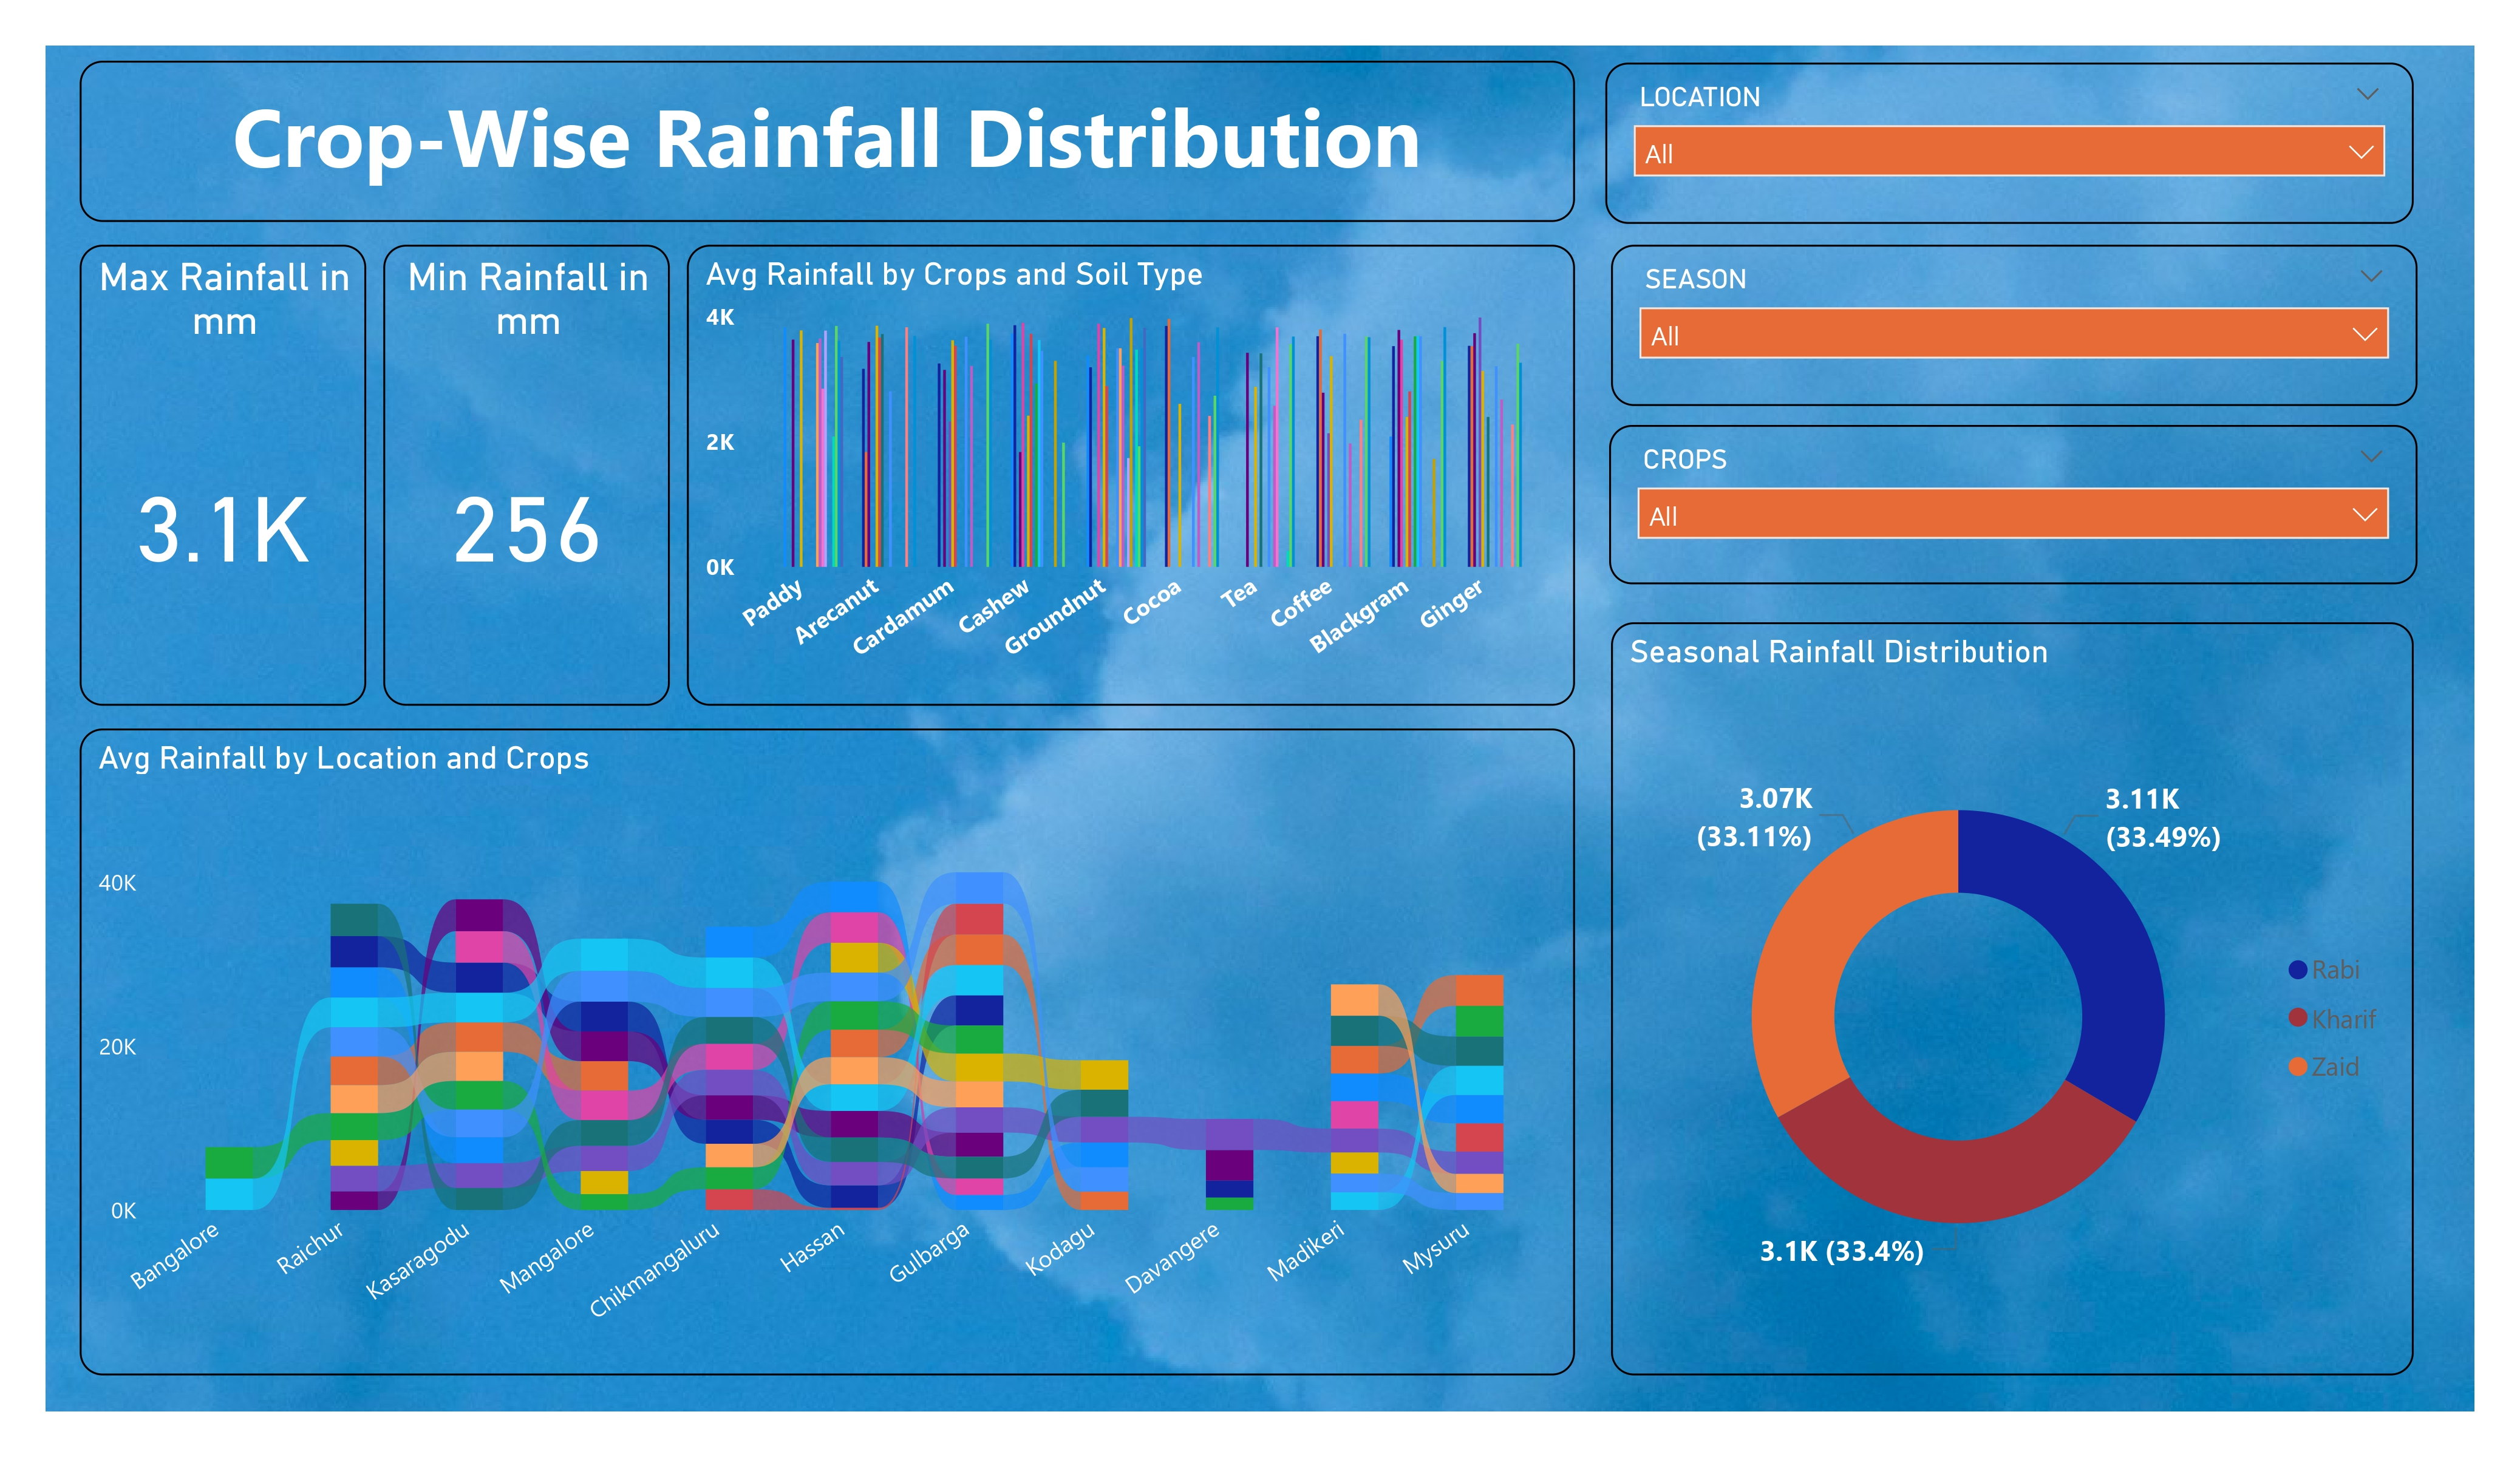

This screenshot's page, from the dashboard's own definition file:
{"tool":"powerbi","page":{"name":"Crop-Wise Rainfall Distribution","canvas":[1280,720],"ordinal":1},"visuals":[{"type":"card","title":"Max Rainfall in mm","fields":{"Values":["AGRICULTURE.Avg Rainfall"]},"box":[18.2,105.2,150.6,242.9],"z":0},{"type":"card","title":"Min Rainfall in mm","fields":{"Values":["AGRICULTURE.Min Rainfall"]},"box":[177.9,105.2,150.6,242.9],"z":1000},{"type":"textbox","box":[18,8,788,85],"z":2000},{"type":"ribbonChart","title":"Avg Rainfall by Location and Crops","fields":{"Category":["AGRICULTURE.LOCATION"],"Y":["AGRICULTURE.Avg Rainfall"],"Series":["AGRICULTURE.CROPS"]},"box":[18.2,359.7,788.3,341.6],"z":3000},{"type":"clusteredColumnChart","title":"Avg Rainfall by Crops and Soil Type","fields":{"Category":["AGRICULTURE.CROPS"],"Y":["AGRICULTURE.Avg Rainfall"],"Series":["AGRICULTURE.SOIL_TYPE"]},"box":[337.7,105.2,468.8,242.9],"z":4000},{"type":"donutChart","title":"Seasonal Rainfall Distribution","fields":{"Category":["AGRICULTURE.SEASON"],"Y":["AGRICULTURE.Avg Rainfall"]},"box":[824.7,303.9,423.4,397.4],"z":5000},{"type":"slicer","fields":{"Values":["AGRICULTURE.LOCATION"]},"box":[822,8.5,425.6,85.4],"z":6000},{"type":"slicer","fields":{"Values":["AGRICULTURE.CROPS"]},"box":[824.4,200,425.6,84.1],"z":7000},{"type":"slicer","fields":{"Values":["AGRICULTURE.SEASON"]},"box":[824.7,105.2,425,85],"z":8000}]}

Visuals, with their boxes on the page's 1280x720 design canvas (x1, y1, x2, y2). These are canvas units, not pixel positions in the 2520x1457 screenshot, which may show the page scaled, cropped or inside an application window:
"Max Rainfall in mm" card: [18, 105, 169, 348]
"Min Rainfall in mm" card: [178, 105, 328, 348]
textbox: [18, 8, 806, 93]
"Avg Rainfall by Location and Crops" ribbonChart: [18, 360, 806, 701]
"Avg Rainfall by Crops and Soil Type" clusteredColumnChart: [338, 105, 806, 348]
"Seasonal Rainfall Distribution" donutChart: [825, 304, 1248, 701]
slicer - AGRICULTURE.LOCATION: [822, 8, 1248, 94]
slicer - AGRICULTURE.CROPS: [824, 200, 1250, 284]
slicer - AGRICULTURE.SEASON: [825, 105, 1250, 190]
